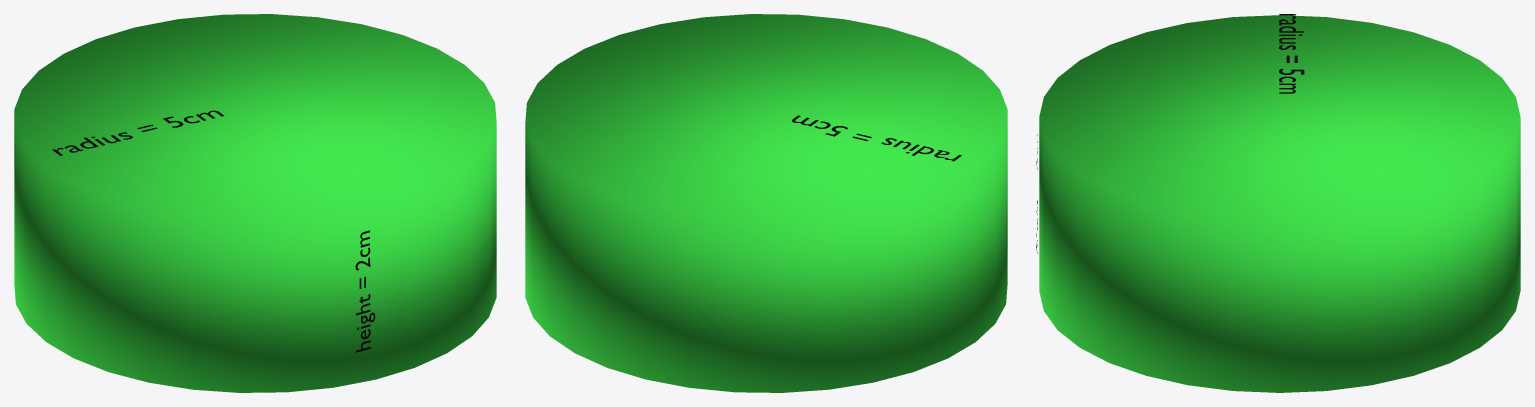
3 renders of one model, left to right at view 1: azimuth 30°, elevation 25°; view 2: azimuth 150°, elevation 25°; view 3: azimuth 270°, elevation 25°, orthographic.
Visible parts, largest first — view 1: Cylinder, radius, height; view 2: Cylinder, radius; view 3: Cylinder, radius.
Boxes of the visible parts, left/top/right/bottom form: Cylinder: left=14, top=14, right=496, bottom=392; radius: left=52, top=110, right=223, bottom=155; height: left=355, top=230, right=375, bottom=352; Cylinder: left=525, top=14, right=1007, bottom=392; radius: left=792, top=115, right=961, bottom=161; Cylinder: left=1039, top=15, right=1520, bottom=392; radius: left=1279, top=14, right=1304, bottom=93.
Size of the model in its own units: 0.5 by 0.209 by 0.5029.
